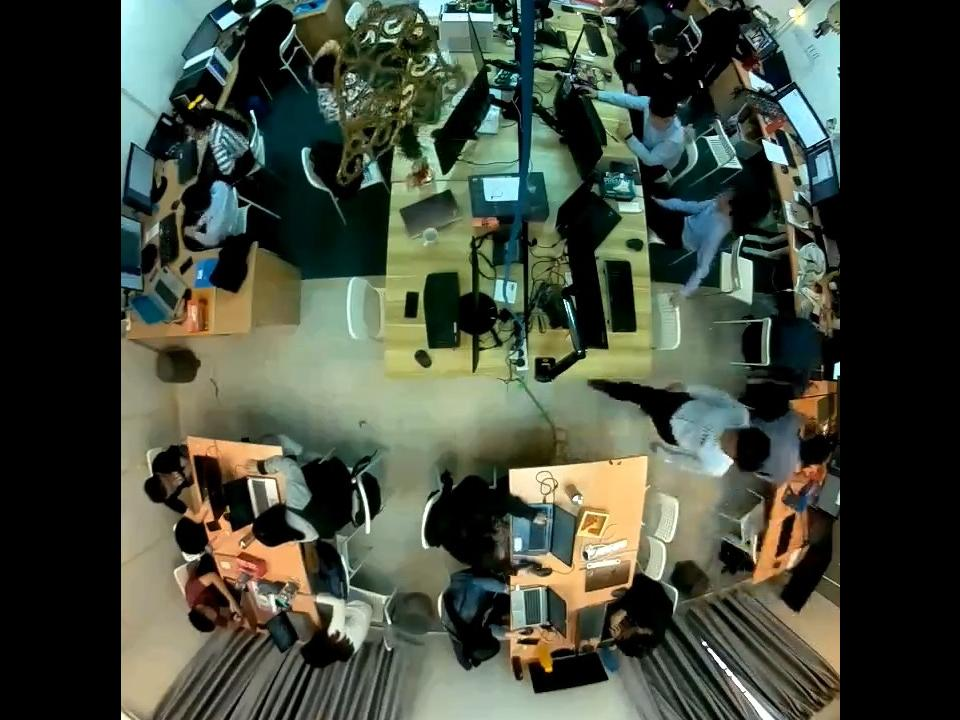name-tag: (698, 431, 710, 449)
